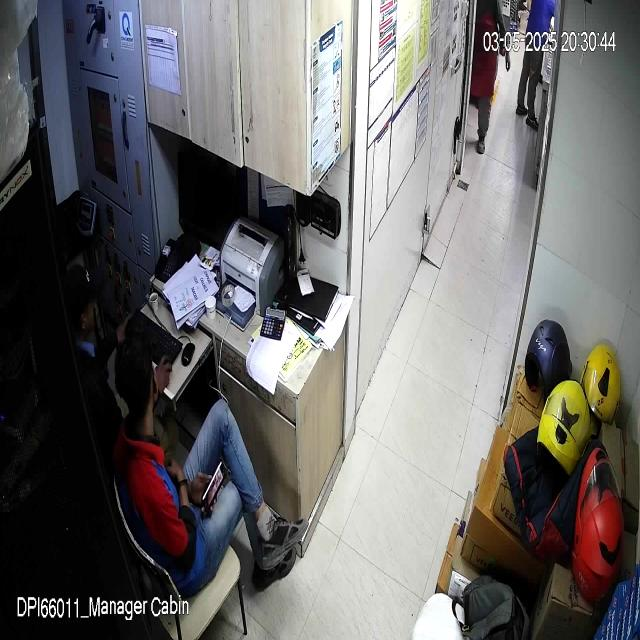helmet: (570, 448, 624, 599), (537, 381, 590, 479), (525, 319, 571, 400), (579, 344, 621, 424)
no_helmet: (113, 336, 159, 441)
